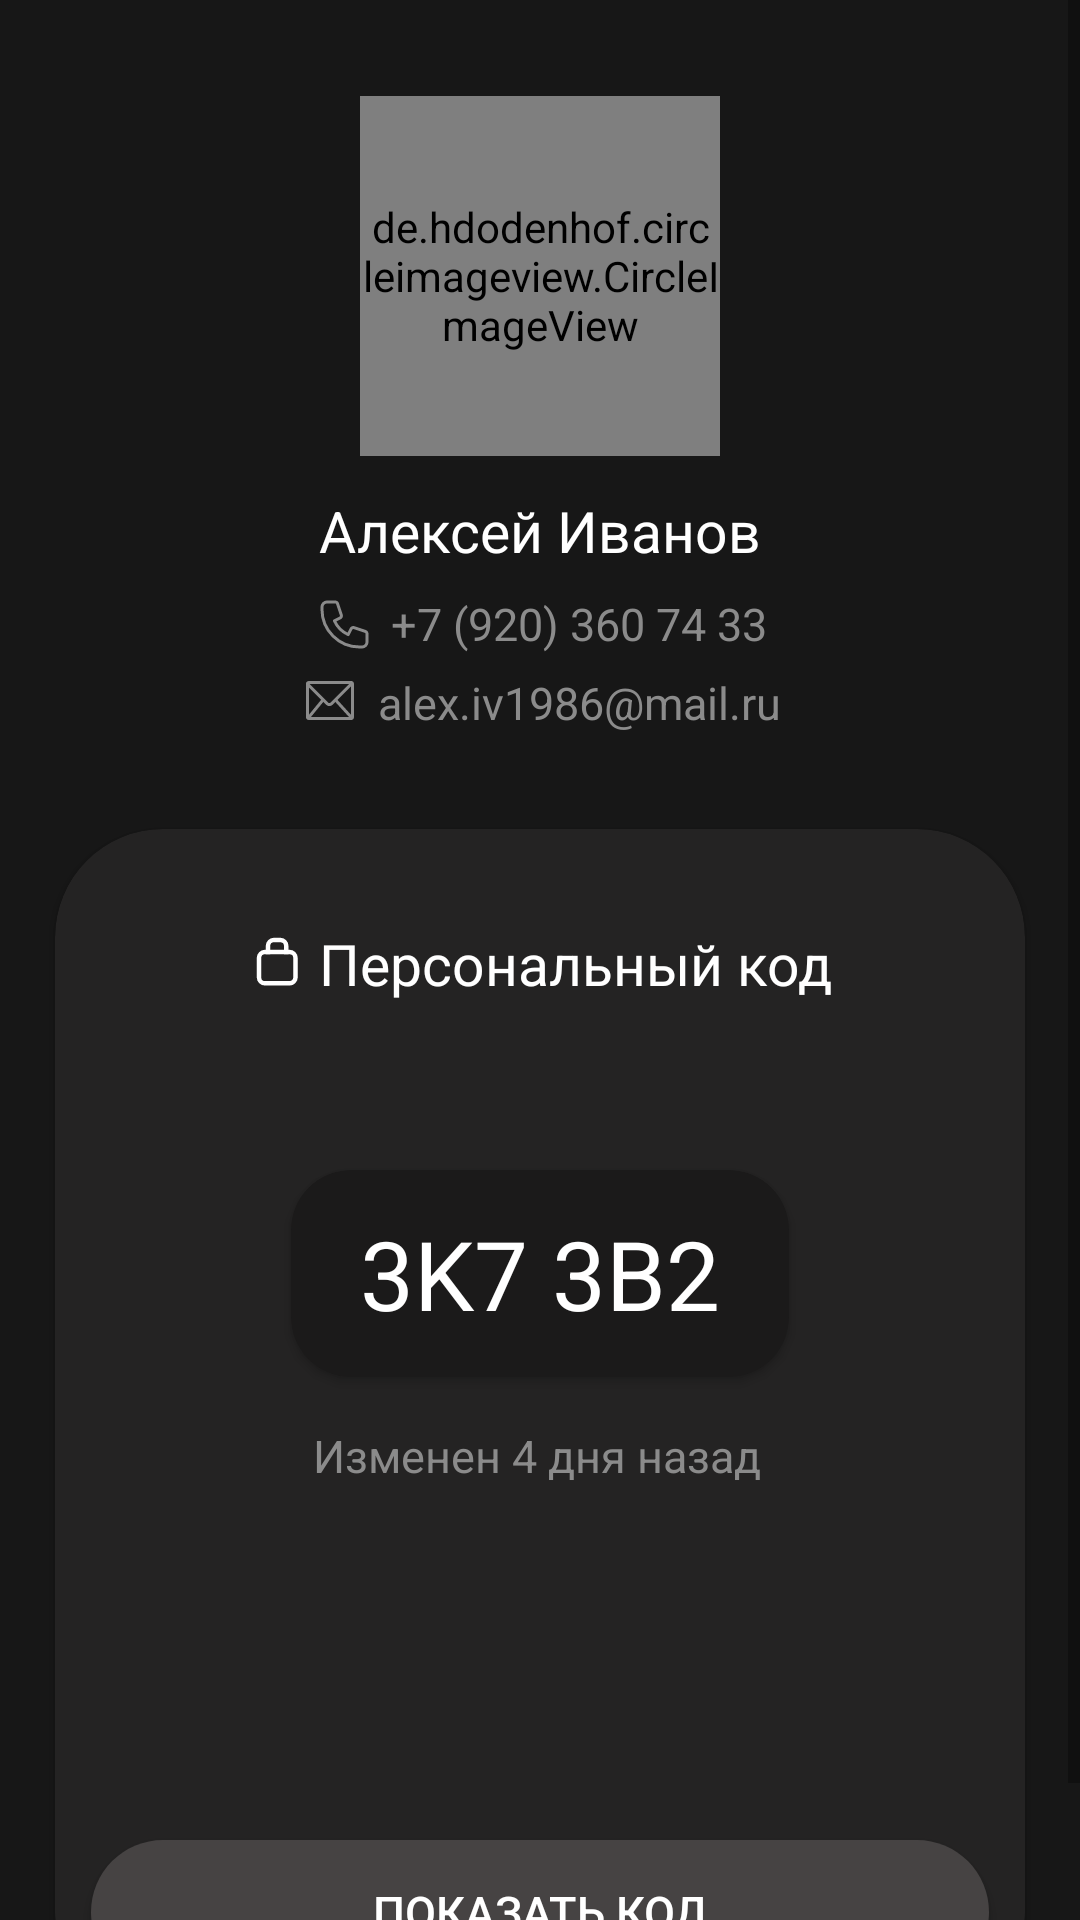

Icon click points for this 1080 × 1920 phone screenshot, format (x=x, y=y):
person code: (x=277, y=961)
phone: (x=344, y=624)
